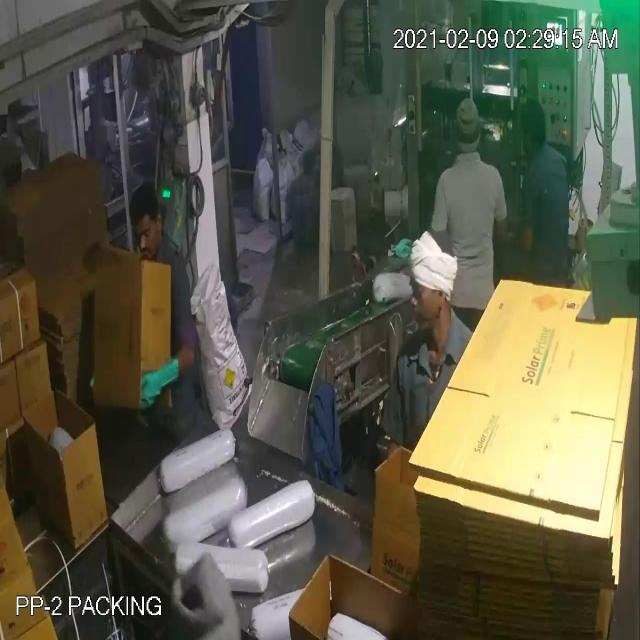gloves: (133, 348, 181, 408)
